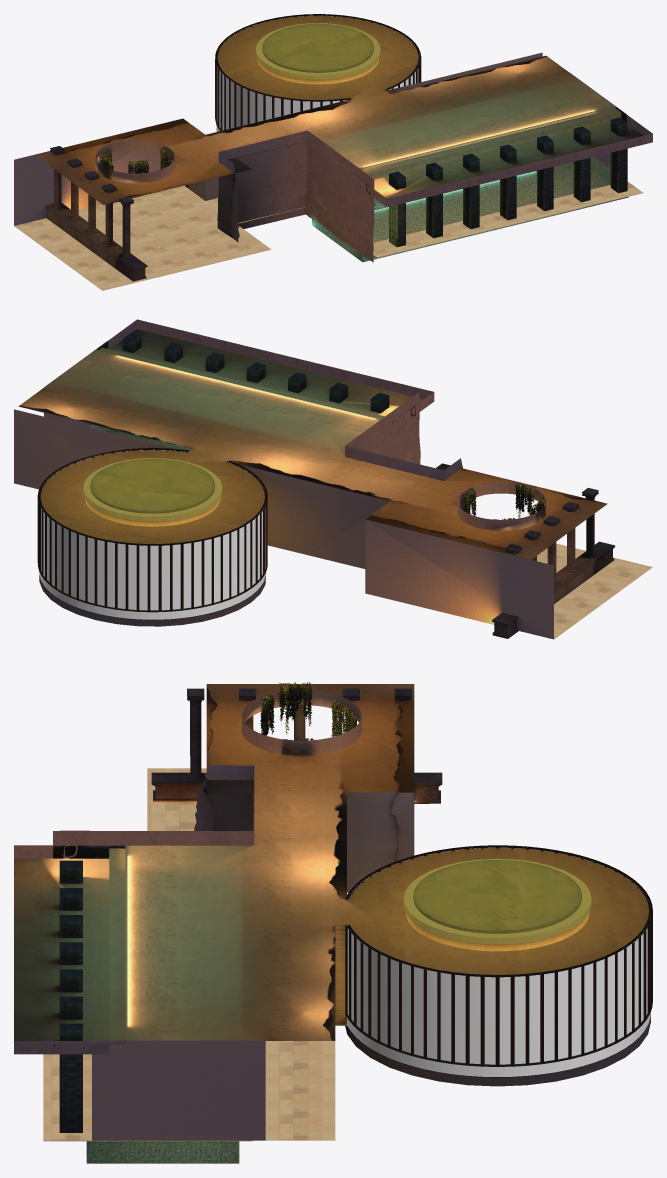
File: main_sceneq.glb
The picture shows the model from 3 angles, top to bottom: view 1: azimuth 30°, elevation 25°; view 2: azimuth 150°, elevation 25°; view 3: azimuth 270°, elevation 25°; orthographic projection. The views are drawn at different scales.
Visible parts, largest first — view 1: roof, tiles, cracked plaster wall, Cube, walls, PoolWalls, window beams, window, pillars, bottom arch, Cylinder.003; view 2: roof, walls, window, window beams, cracked plaster wall, tiles, Cube, bottom arch, pillars, Cylinder.003, Cylinder.004, Leaf_plant.002; view 3: roof, window, walls, window beams, tiles, cracked plaster wall, Cube, PoolWalls, Cylinder.003, Cylinder.004, pillars, bottom arch (+1 smaller).
Part boxes in pixels (box(x1,y1,x2,y2)): roof: box(35, 15, 652, 206); tiles: box(14, 157, 642, 290); cracked plaster wall: box(217, 130, 374, 262); Cube: box(389, 117, 627, 247); walls: box(14, 52, 626, 225); PoolWalls: box(312, 157, 628, 262); window beams: box(215, 14, 421, 130); window: box(216, 15, 418, 131); pillars: box(50, 146, 134, 259); bottom arch: box(46, 203, 147, 281); Cylinder.003: box(256, 23, 380, 79); roof: box(18, 319, 607, 559); walls: box(14, 340, 553, 639); window: box(39, 449, 266, 619); window beams: box(37, 448, 267, 612); cracked plaster wall: box(345, 391, 463, 509); tiles: box(90, 425, 652, 639); Cube: box(123, 332, 389, 413); bottom arch: box(492, 541, 615, 638); pillars: box(505, 488, 598, 586); Cylinder.003: box(83, 458, 222, 521); Cylinder.004: box(39, 575, 265, 626); Leaf_plant.002: box(515, 481, 534, 517); roof: box(14, 684, 650, 1054); window: box(347, 847, 650, 1076); walls: box(92, 792, 414, 1140); window beams: box(345, 845, 652, 1066); tiles: box(43, 768, 346, 1141); cracked plaster wall: box(53, 765, 254, 858); Cube: box(59, 860, 82, 1132); PoolWalls: box(86, 1141, 239, 1163); Cylinder.003: box(403, 858, 591, 944); Cylinder.004: box(345, 1014, 650, 1086); pillars: box(187, 688, 411, 781); bottom arch: box(151, 772, 442, 803).
Size of what is drawn, in the model's own units: 15.48 by 2.9 by 11.21.
21 materials, 19 textured.
